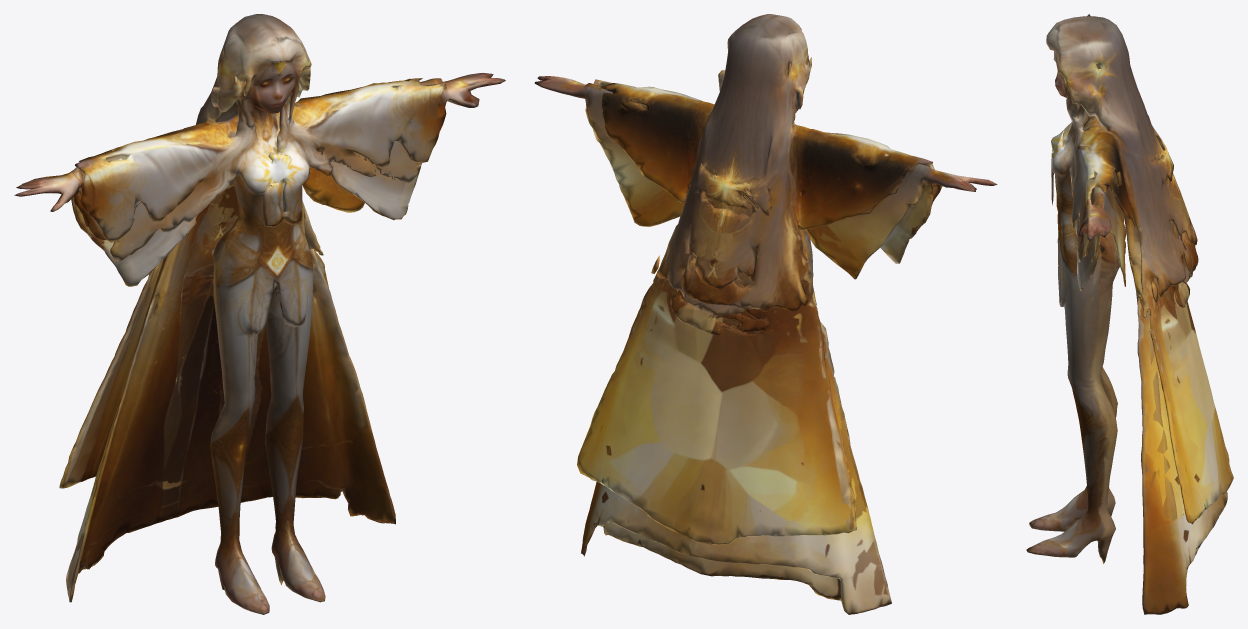
Rendered from Solari.fbx.
3 views of the same model, side by side, from view 1: azimuth 30°, elevation 25°; view 2: azimuth 150°, elevation 25°; view 3: azimuth 270°, elevation 25° (orthographic). The views are drawn at different scales.
Visible parts, largest first — view 1: Mesh_0; view 2: Mesh_0; view 3: Mesh_0.
Boxes of the visible parts, left/top/right/bottom form: Mesh_0: left=14, top=14, right=505, bottom=614; Mesh_0: left=534, top=14, right=997, bottom=614; Mesh_0: left=1026, top=14, right=1233, bottom=614.
Bounding box in the file's own units: 181 × 203 × 71.73.
1 material, 1 textured.
